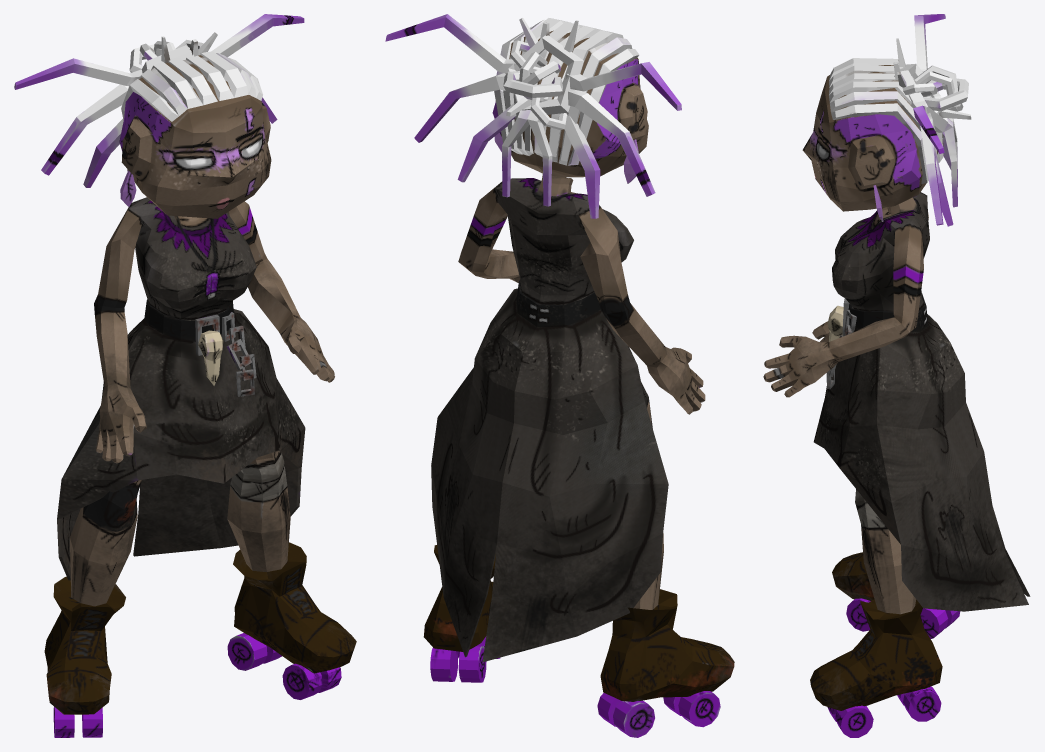
The model's file is bruja_000007.obj.
The picture shows the model from 3 angles, left to right: view 1: azimuth 30°, elevation 25°; view 2: azimuth 150°, elevation 25°; view 3: azimuth 270°, elevation 25°; orthographic projection. The views are drawn at different scales.
Parts seen in each view (by area): view 1: Bruja_Plane.001; view 2: Bruja_Plane.001; view 3: Bruja_Plane.001.
Boxes of the visible parts, x1=… form: Bruja_Plane.001: x1=14, y1=14, x2=356, y2=737; Bruja_Plane.001: x1=385, y1=14, x2=734, y2=737; Bruja_Plane.001: x1=763, y1=14, x2=1030, y2=737.
Size of the model in its own units: 7.68 by 16.57 by 6.33.
